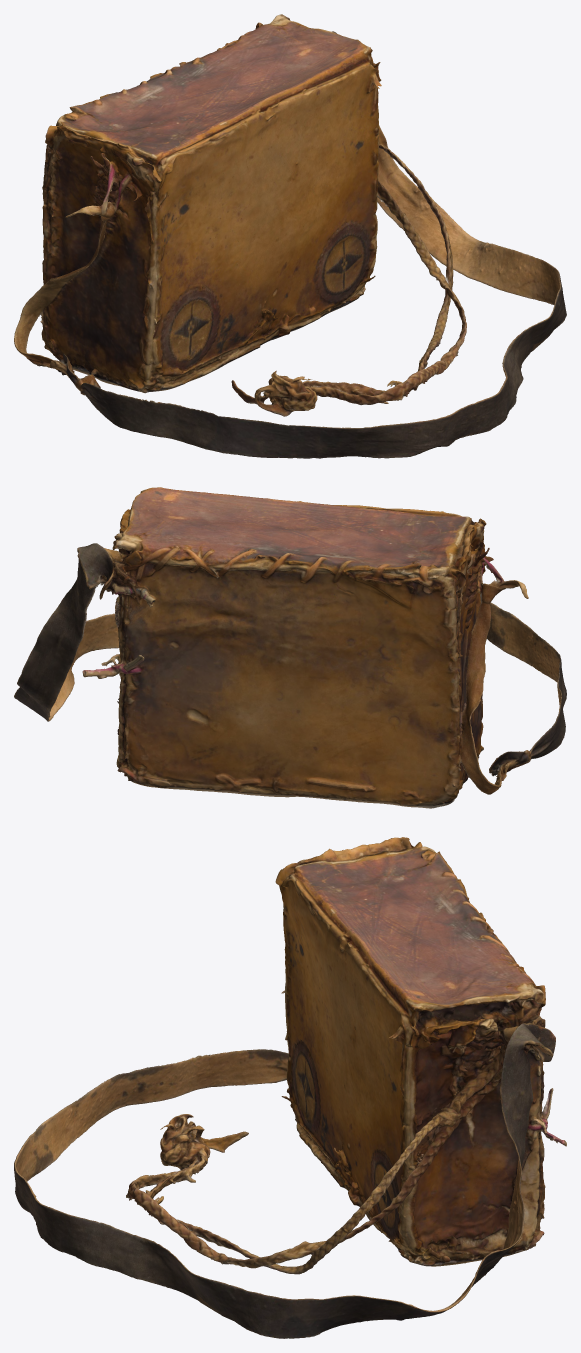
Rendered from quran_case_or_13706_b.glb.
3 renders of one model, top to bottom at view 1: azimuth 30°, elevation 25°; view 2: azimuth 150°, elevation 25°; view 3: azimuth 270°, elevation 25°, orthographic. The views are drawn at different scales.
Parts seen in each view (by area): view 1: Object_3, Object_4, Object_2, Object_5, Object_6; view 2: Object_2, Object_3, Object_4, Object_5, Object_6; view 3: Object_4, Object_3, Object_5, Object_2, Object_6.
Boxes of the visible parts, x1,y1,x2,y2 form: Object_3: (62, 78, 529, 458); Object_4: (159, 16, 531, 458); Object_2: (14, 24, 269, 451); Object_5: (332, 31, 566, 400); Object_6: (225, 14, 513, 439); Object_2: (118, 502, 566, 808); Object_3: (120, 506, 566, 807); Object_4: (64, 487, 498, 796); Object_5: (14, 488, 159, 721); Object_6: (91, 488, 254, 789); Object_4: (14, 915, 566, 1281); Object_3: (14, 848, 543, 1290); Object_5: (67, 1000, 563, 1338); Object_2: (121, 837, 549, 1235); Object_6: (23, 958, 557, 1263).
Bounding box in the file's own units: 1.38 × 0.6976 × 1.27.
Materials: 1 (1 with a texture image).
